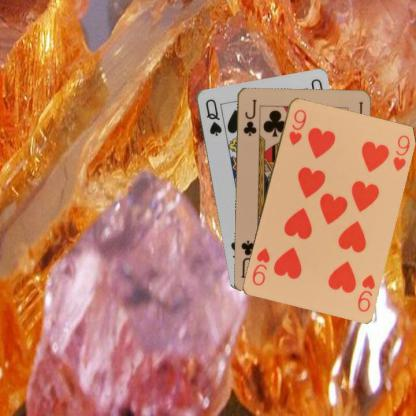9h: (355, 272, 376, 313), (286, 106, 307, 146)
Jc: (240, 96, 258, 137)
Qs: (202, 96, 223, 137)
